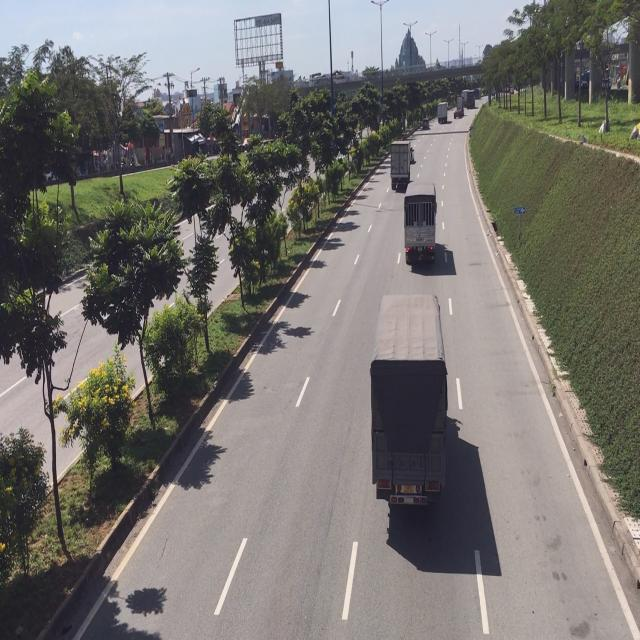truck: (373, 356, 452, 509), (404, 181, 436, 267), (390, 140, 411, 193)
